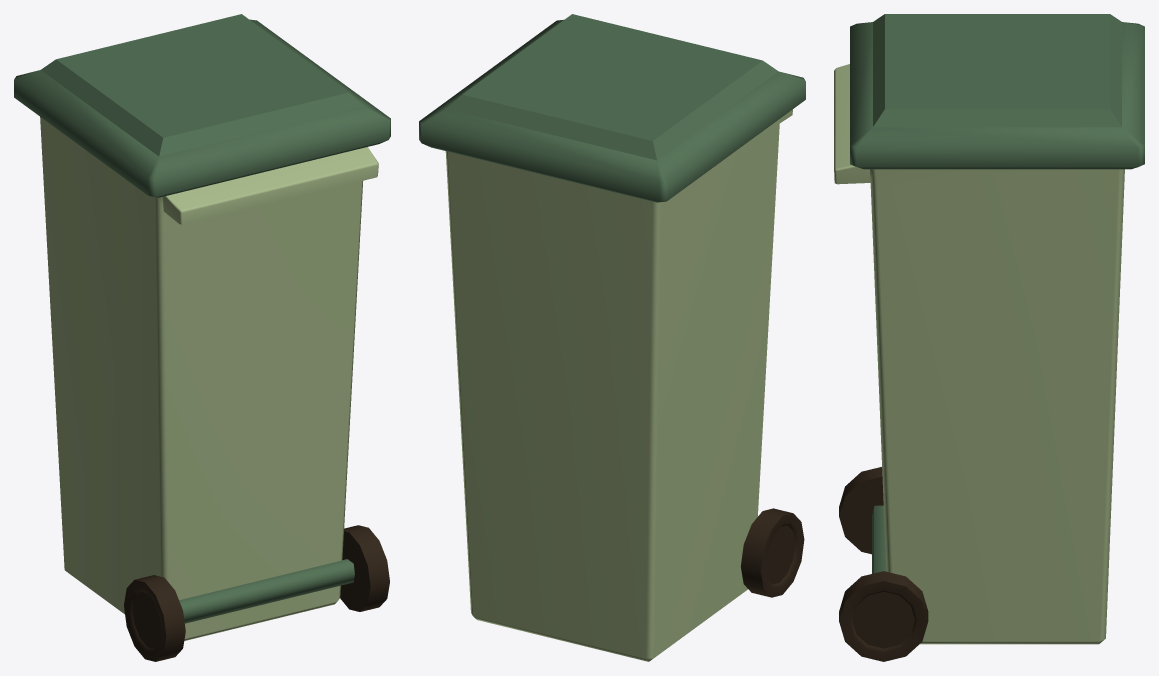
File: Bin.fbx
3 renders of one model, left to right at view 1: azimuth 30°, elevation 25°; view 2: azimuth 150°, elevation 25°; view 3: azimuth 270°, elevation 25°, orthographic. The views are drawn at different scales.
Parts seen in each view (by area): view 1: Bin; view 2: Bin; view 3: Bin.
Part boxes in pixels (<box>): Bin: <box>14,14,390,661</box>; Bin: <box>419,14,805,661</box>; Bin: <box>834,14,1144,661</box>.
Bounding box in the file's own units: 32.1 × 65.24 × 33.85.
